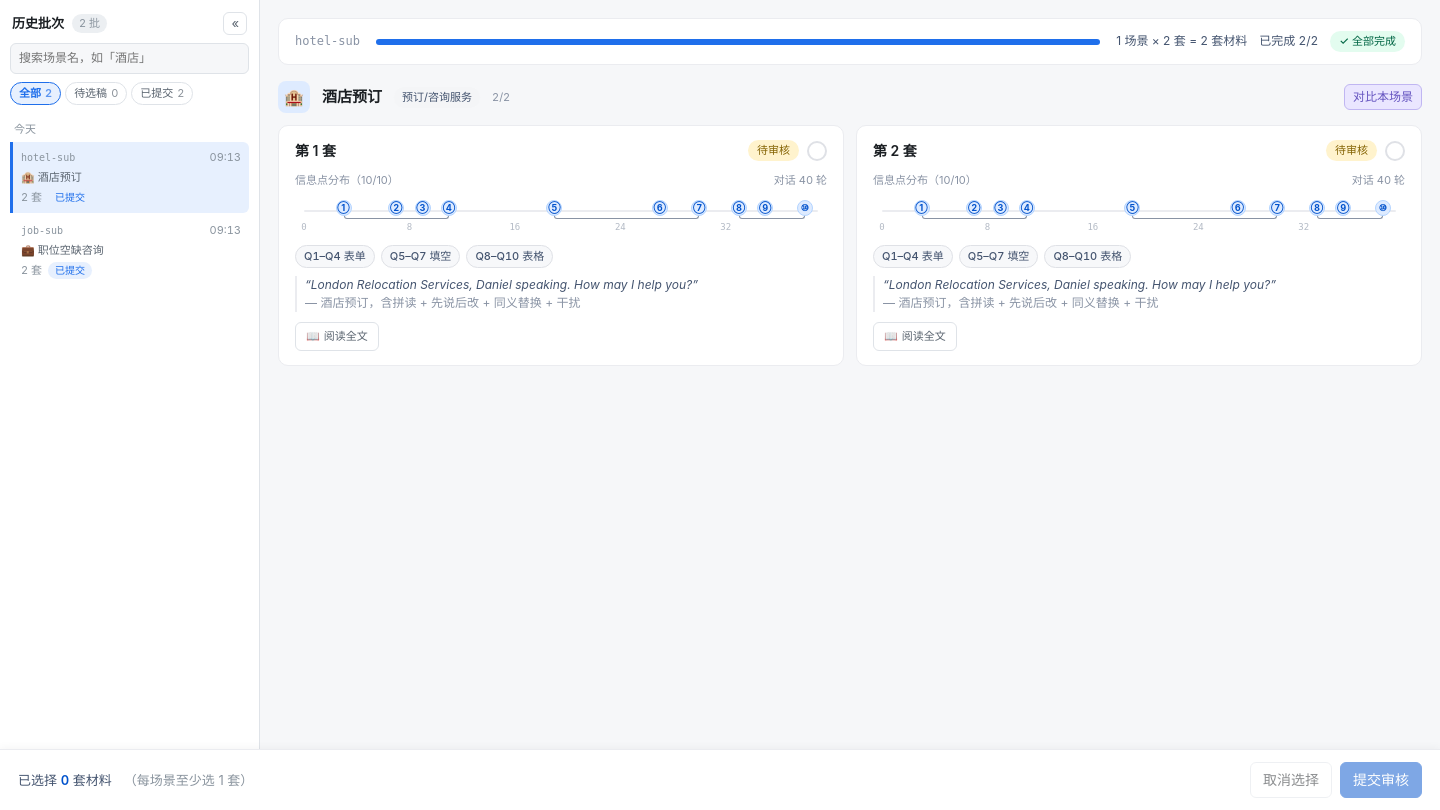
Test: 历史批次面板 › chip 计数跟着搜索走
The image size is (1440, 810).
Expected: the button "已提交 2" is shown, [131,82,193,105]
In the search field named "按场景名搜索历史批次": point(130, 58) [10,43,249,74], type "酒店"
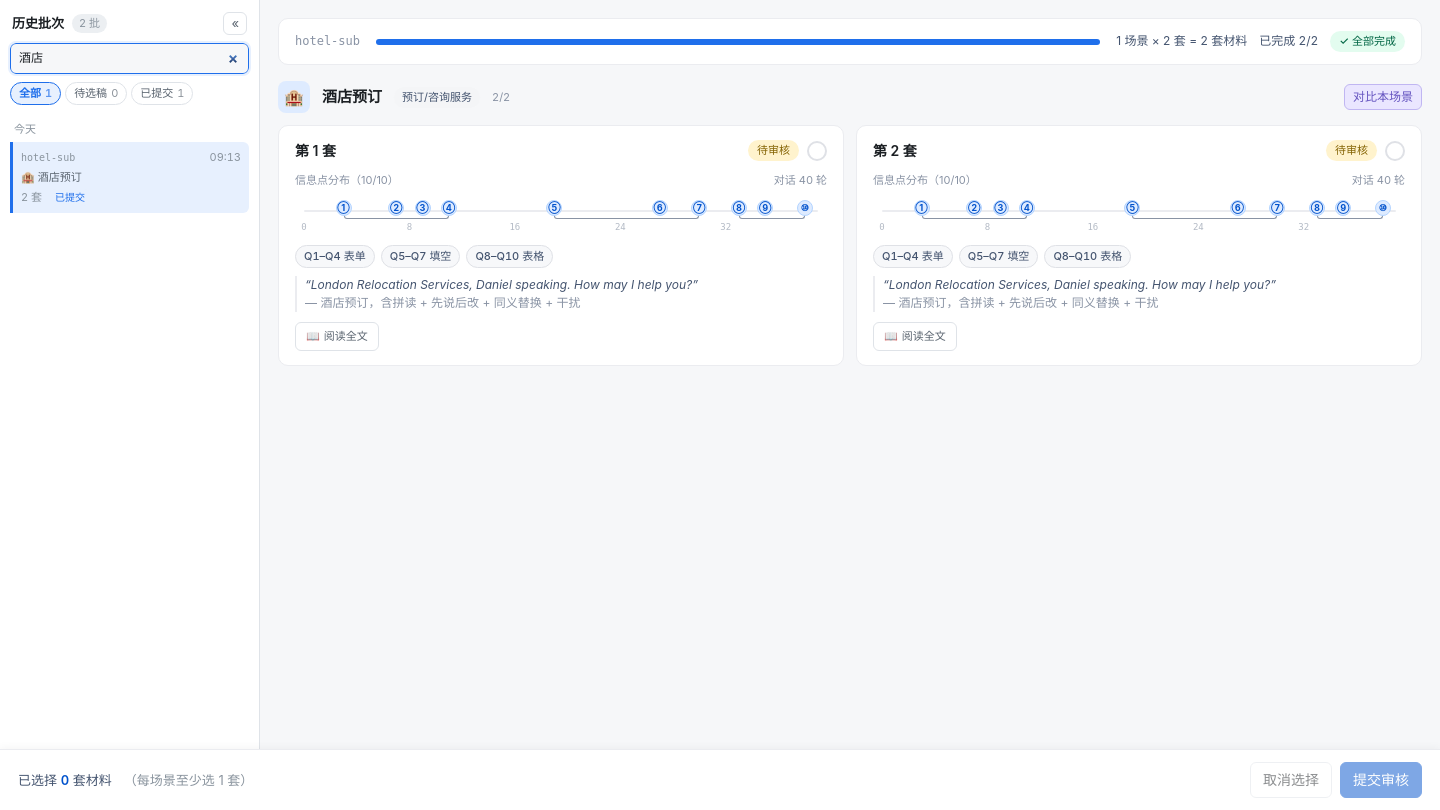
Result: the button "已提交 1" is shown at [131,82,193,105]
